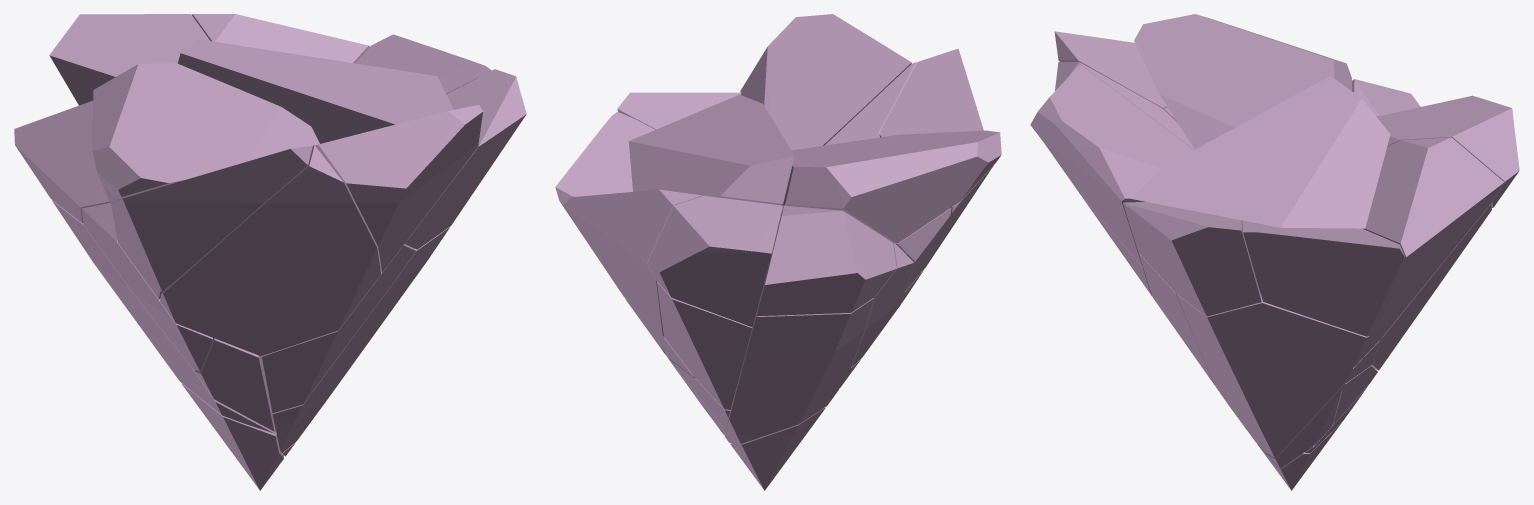
The model's file is crystal_down.fbx.
3 views of the same model, side by side, from view 1: azimuth 30°, elevation 25°; view 2: azimuth 150°, elevation 25°; view 3: azimuth 270°, elevation 25° (orthographic). The views are drawn at different scales.
Visible parts, largest first — view 1: crystal_piece_down; view 2: crystal_piece_down; view 3: crystal_piece_down.
Part boxes in pixels (x1,y1,x2,y2): crystal_piece_down: [14, 14, 526, 490]; crystal_piece_down: [555, 14, 1001, 490]; crystal_piece_down: [1030, 14, 1519, 490].
Bounding box in the file's own units: 59.71 × 62.28 × 66.27.
